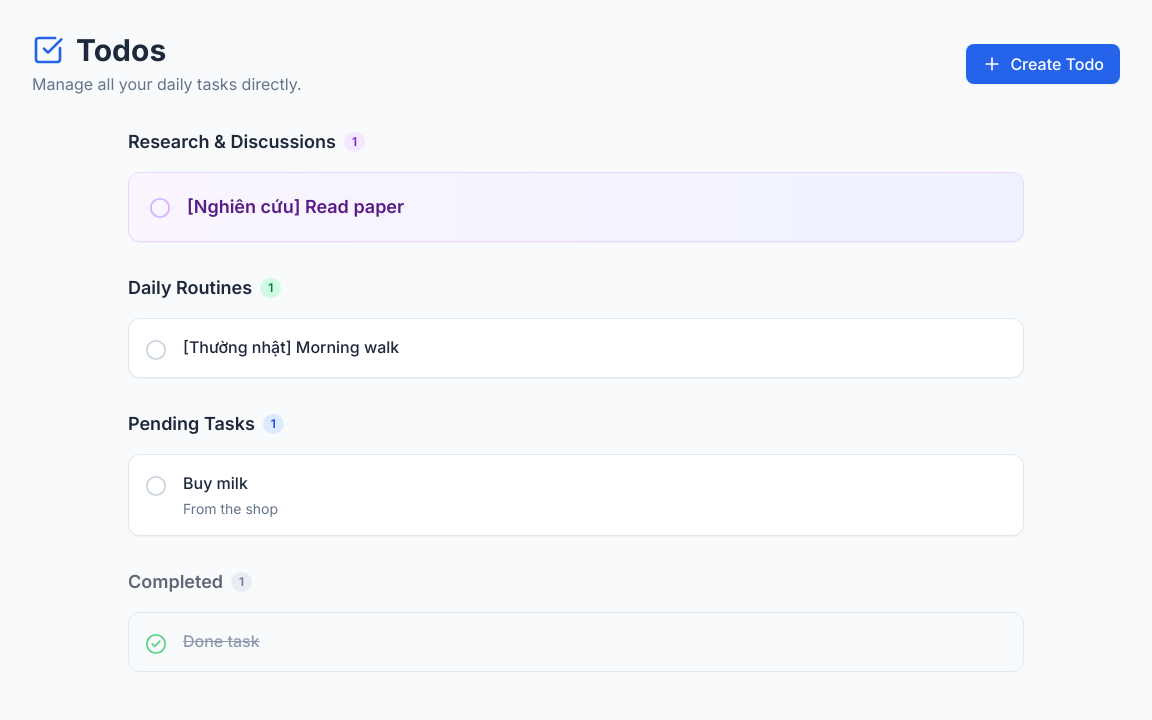
Test: TodosPage › creates a new todo via the create modal
Click the button "Create Todo".
click(1043, 64)  # box top-left (966, 44), bottom-right (1120, 84)
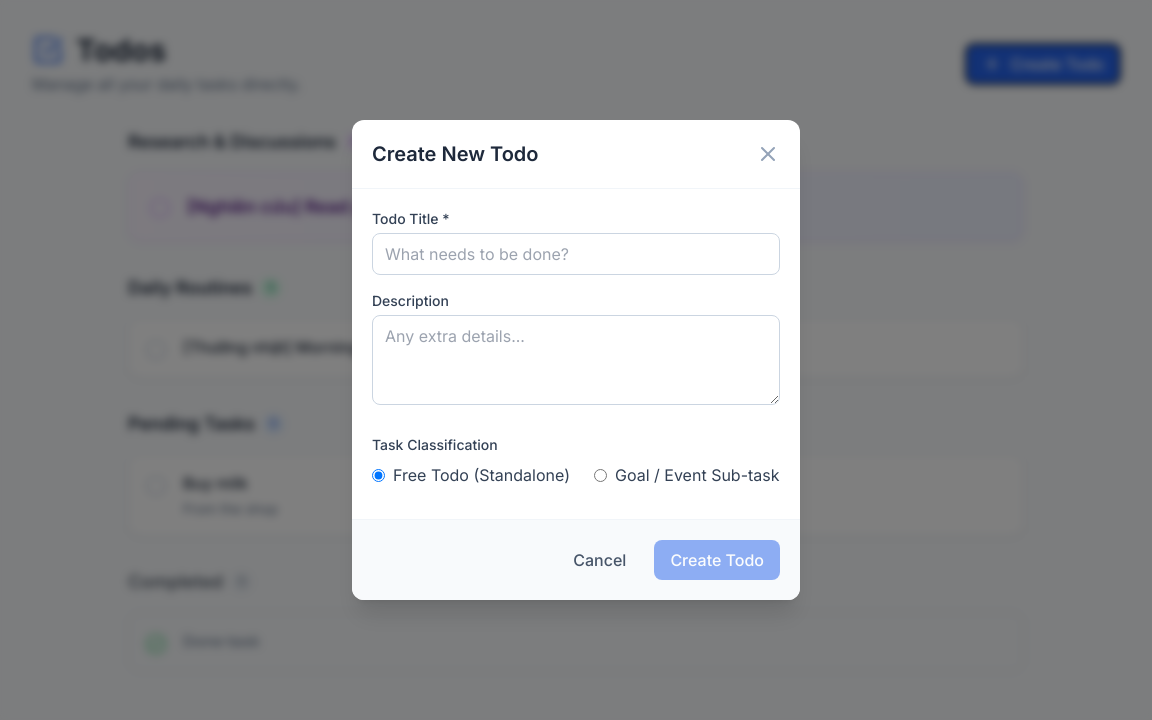
Type "New task" into the field with placeholder "What needs to be done?".
click(576, 254); type("New task")  # box top-left (372, 233), bottom-right (780, 275)
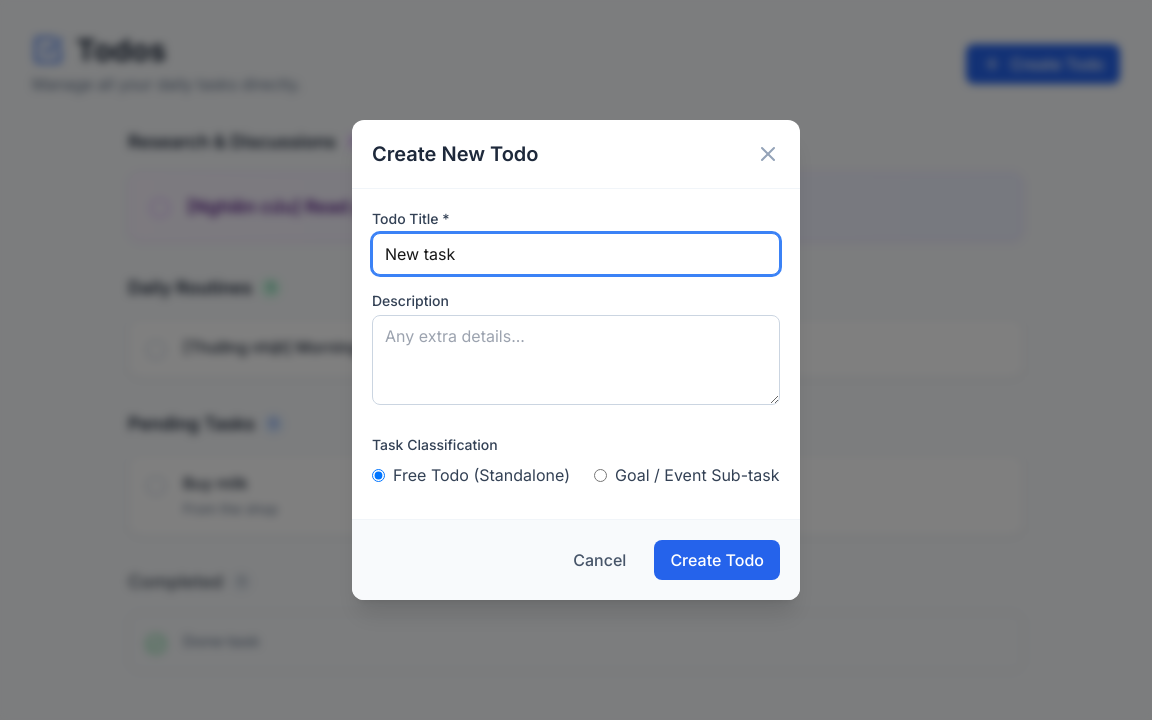
Click the button "Create Todo".
click(717, 560)  # box top-left (654, 540), bottom-right (780, 580)
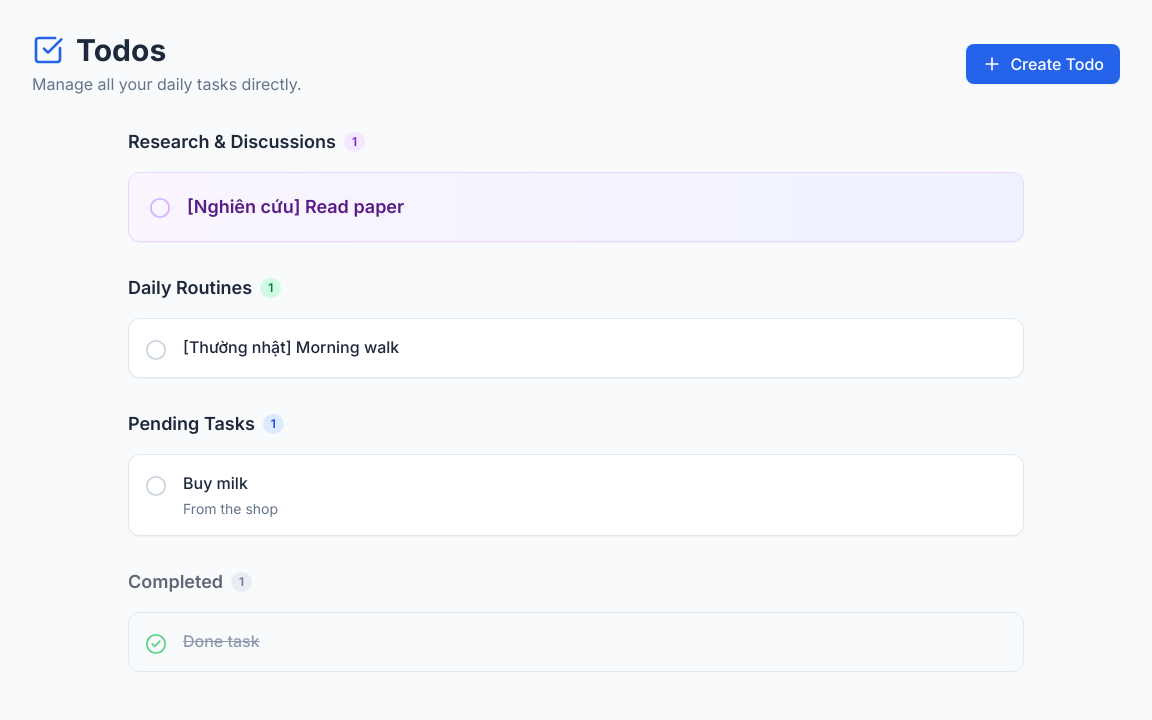
expect the heading "Create New Todo" is gone: met
